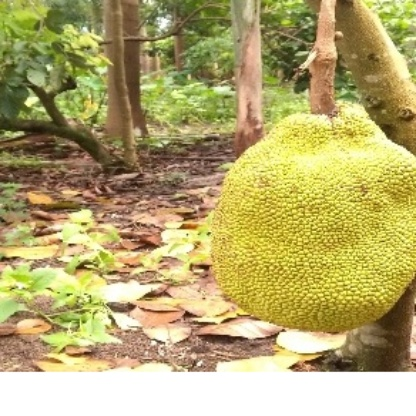mit: (208, 91, 414, 325)
